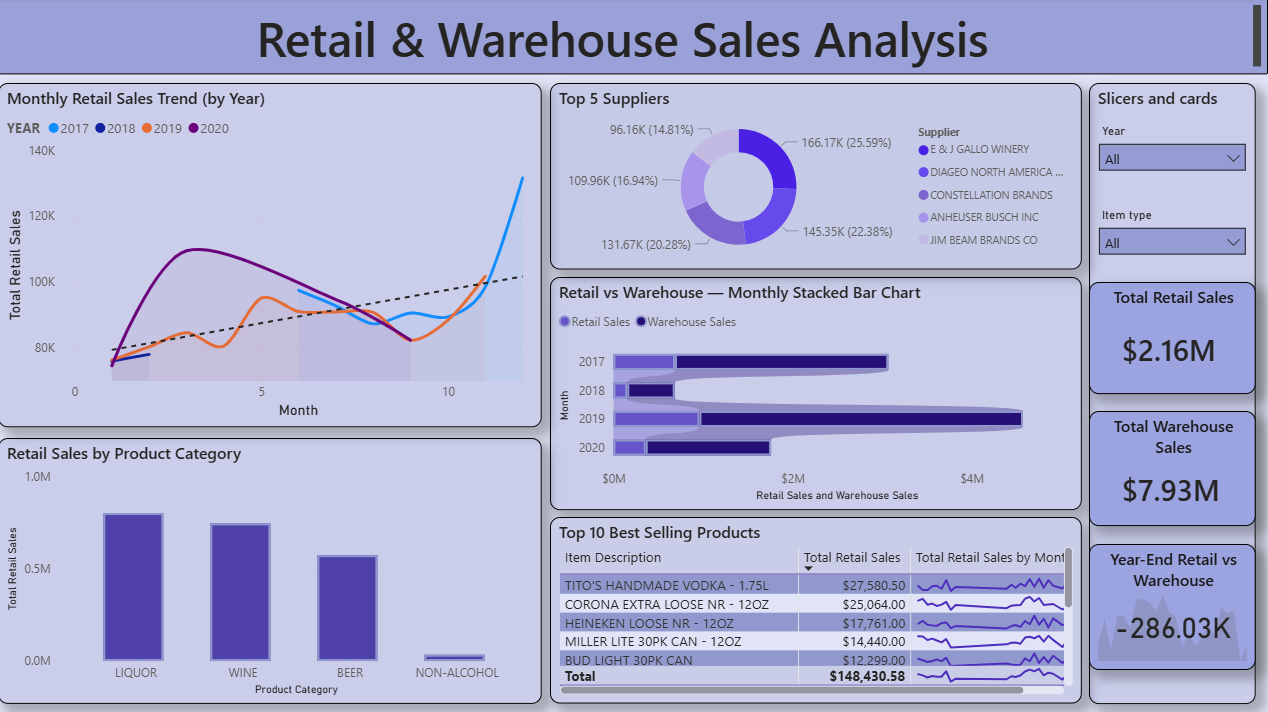

Layout of this report page (visuals, bound fields, positions):
{"tool":"powerbi","page":{"name":"Page 1","canvas":[1280,720],"ordinal":0},"visuals":[{"type":"lineChart","title":"Monthly Retail Sales Trend (by Year)","fields":{"Category":["vw_SalesFull.MONTH"],"Y":["Sum(vw_SalesFull.Retail_Sales)"],"Series":["vw_SalesFull.YEAR"]},"box":[0,85.6,547.8,346.7],"z":0},{"type":"textbox","box":[0,0,1280,76.7],"z":1000},{"type":"clusteredColumnChart","title":"Retail Sales by Product Category","fields":{"Y":["Sum(vw_SalesFull.Retail_Sales)"],"Category":["vw_SalesFull.ITEM_TYPE"]},"box":[0,443.3,547.8,267.8],"z":2000},{"type":"donutChart","title":"Top 5 Suppliers","fields":{"Category":["vw_SalesFull.SUPPLIER"],"Y":["Sum(vw_SalesFull.Retail_Sales)"]},"box":[556.3,85.7,536.2,188.5],"z":3000},{"type":"barChart","title":"Retail vs Warehouse — Monthly Stacked Bar Chart","fields":{"Category":["vw_SalesFull.MonthDate.Variation.Date Hierarchy.Year","vw_SalesFull.MonthDate.Variation.Date Hierarchy.Month"],"Y":["Sum(vw_SalesFull.Total Retail_Sales)","Sum(vw_SalesFull.Warehouse_Sales)"]},"box":[556.3,281.2,536.2,234.8],"z":4000},{"type":"tableEx","title":"Top 10 Best Selling Products","fields":{"Values":["vw_SalesFull.ITEM_DESCRIPTION","vw_SalesFull.Total Retail Sales","SparklineData(vw_SalesFull.Total Retail Sales_[vw_SalesFull.MonthDate])"]},"box":[556.3,523.1,536.2,188.5],"z":5000},{"type":"textbox","title":"Slicers and cards","box":[1099.6,85.7,168.3,625.9],"z":6000},{"type":"slicer","fields":{"Values":["vw_SalesFull.YEAR"]},"box":[1099.6,122,168.3,75.6],"z":7000},{"type":"slicer","fields":{"Values":["vw_SalesFull.ITEM_TYPE"]},"box":[1099.6,206.6,168.3,74.6],"z":7001},{"type":"cardVisual","title":"Total Retail Sales","fields":{"Data":["vw_SalesFull.Total Retail Sales"]},"box":[1099.6,286.2,168.3,112.9],"z":7002},{"type":"cardVisual","title":"Total Warehouse Sales","fields":{"Data":["Sum(vw_SalesFull.Warehouse_Sales)"]},"box":[1099.6,416.3,168.3,115.9],"z":7003},{"type":"kpi","title":"Year-End Retail vs Warehouse","fields":{"Indicator":["vw_SalesFull.Retail vs Warehouse"],"TrendLine":["vw_SalesFull.Month Name"]},"box":[1099.6,550.3,168.3,127],"z":7004}]}

Visuals, with their boxes in screenshot pixels (x1, y1, x2, y2), scaled from the page's 1280x720 canvas onto the 1268x712 screenshot:
"Monthly Retail Sales Trend (by Year)" lineChart: rect(0, 85, 543, 427)
textbox: rect(0, 0, 1267, 76)
"Retail Sales by Product Category" clusteredColumnChart: rect(0, 438, 543, 703)
"Top 5 Suppliers" donutChart: rect(551, 85, 1082, 271)
"Retail vs Warehouse — Monthly Stacked Bar Chart" barChart: rect(551, 278, 1082, 510)
"Top 10 Best Selling Products" tableEx: rect(551, 517, 1082, 704)
"Slicers and cards" textbox: rect(1089, 85, 1256, 704)
slicer - vw_SalesFull.YEAR: rect(1089, 121, 1256, 195)
slicer - vw_SalesFull.ITEM_TYPE: rect(1089, 204, 1256, 278)
"Total Retail Sales" cardVisual: rect(1089, 283, 1256, 395)
"Total Warehouse Sales" cardVisual: rect(1089, 412, 1256, 526)
"Year-End Retail vs Warehouse" kpi: rect(1089, 544, 1256, 670)
